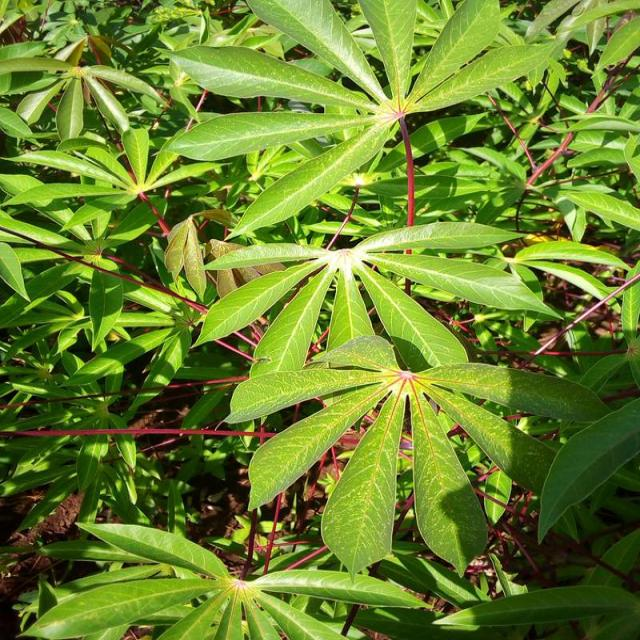cassava leaf: (222, 330, 608, 579)
